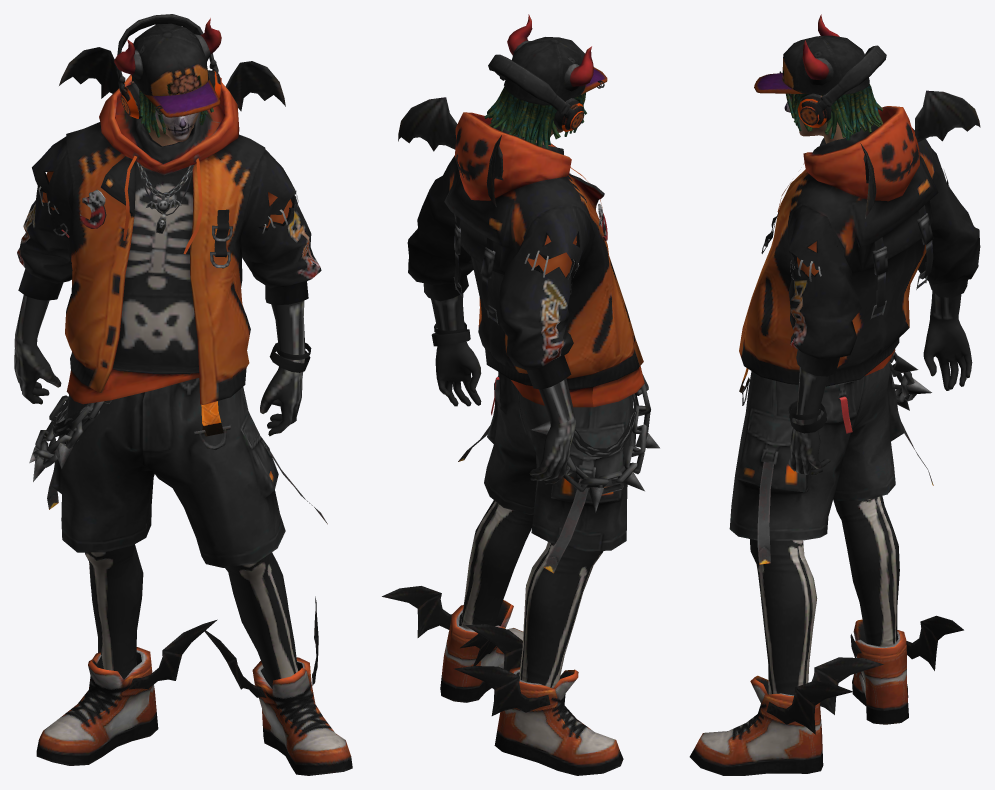
The model's file is halloween.FBX.
3 renders of one model, left to right at view 1: azimuth 30°, elevation 25°; view 2: azimuth 150°, elevation 25°; view 3: azimuth 270°, elevation 25°, orthographic. The views are drawn at different scales.
Parts seen in each view (by area): view 1: Mesh_3101.rip, Mesh_3100.rip; view 2: Mesh_3101.rip; view 3: Mesh_3101.rip, Mesh_3100.rip.
Part boxes in pixels (left/top/right/bottom): Mesh_3101.rip: left=14, top=14, right=352, bottom=775; Mesh_3100.rip: left=130, top=81, right=199, bottom=146; Mesh_3101.rip: left=382, top=14, right=659, bottom=775; Mesh_3101.rip: left=689, top=14, right=980, bottom=775; Mesh_3100.rip: left=784, top=93, right=860, bottom=143.
Size of the model in its own units: 0.8821 by 2.23 by 0.8411.
Materials: 2 (2 with a texture image).
